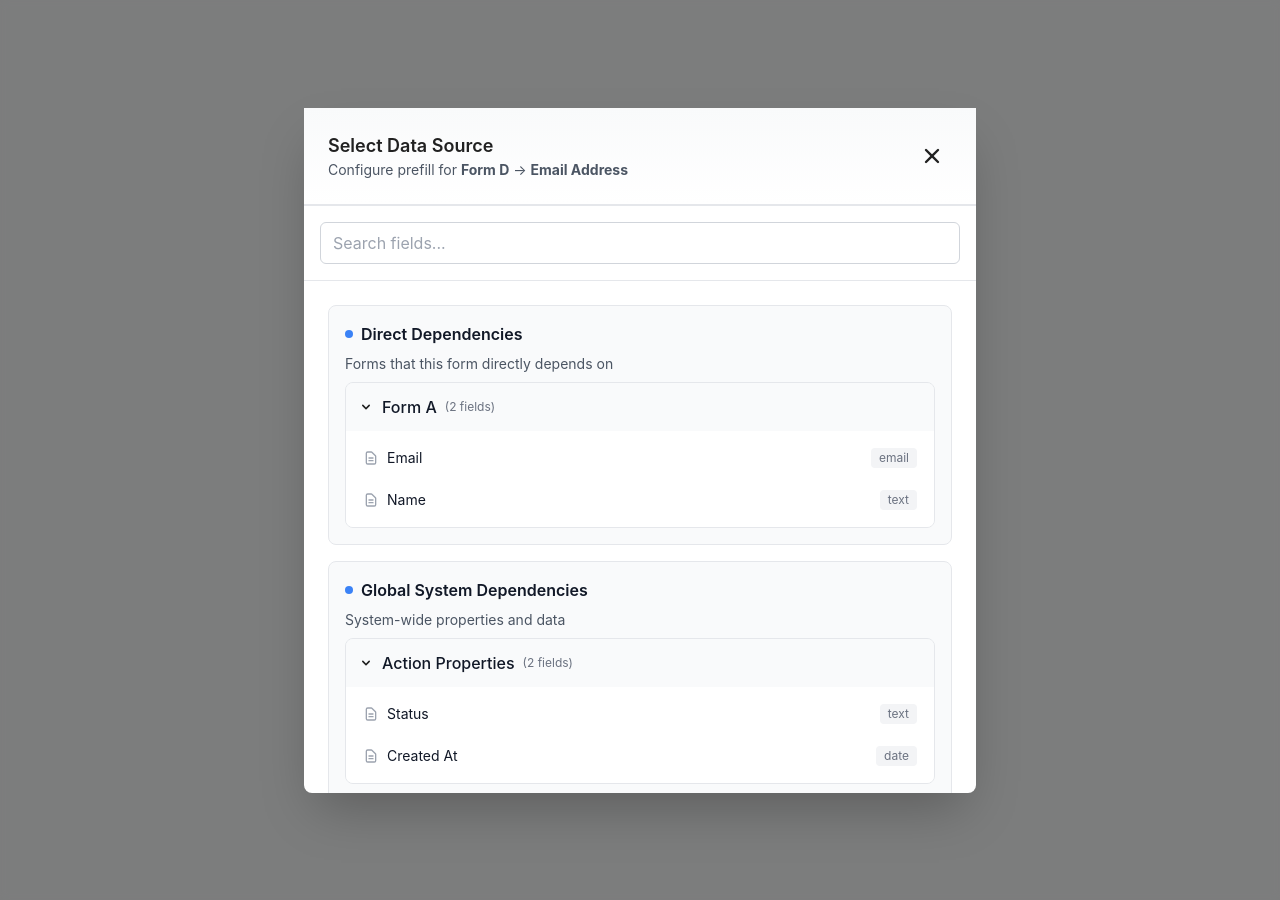
Test: DataSourceModal › closes confirmation dialog when backdrop is clicked while confirmation is open
Note: Trigger confirmation
Click the text "Name". click: [406, 500]
box: [387,490,426,510]
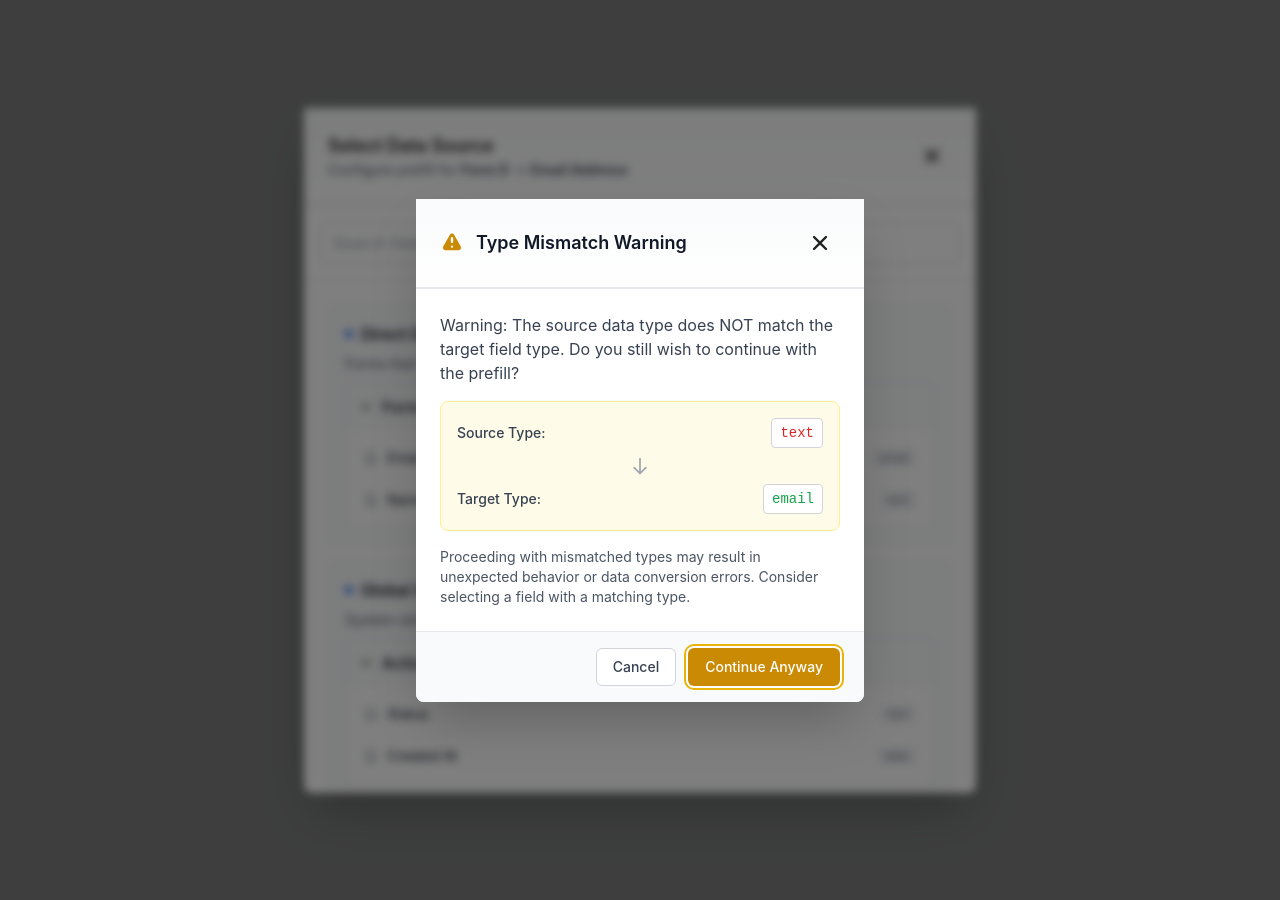
Click the 1st element with class "backdrop-blur-sm". click: [77, 450]
box: [0,0,1279,899]
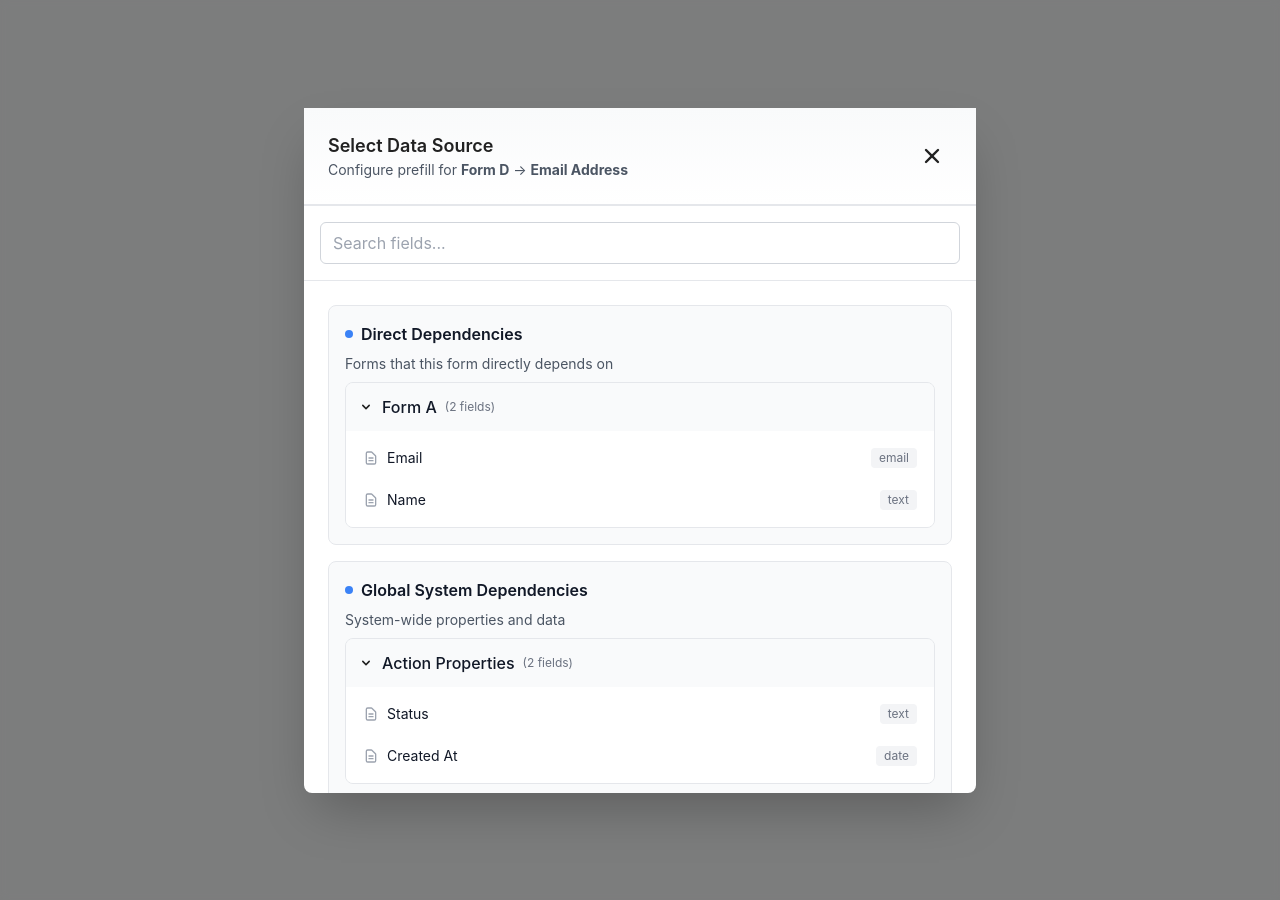
Result: the heading "Type Mismatch Warning" is gone
